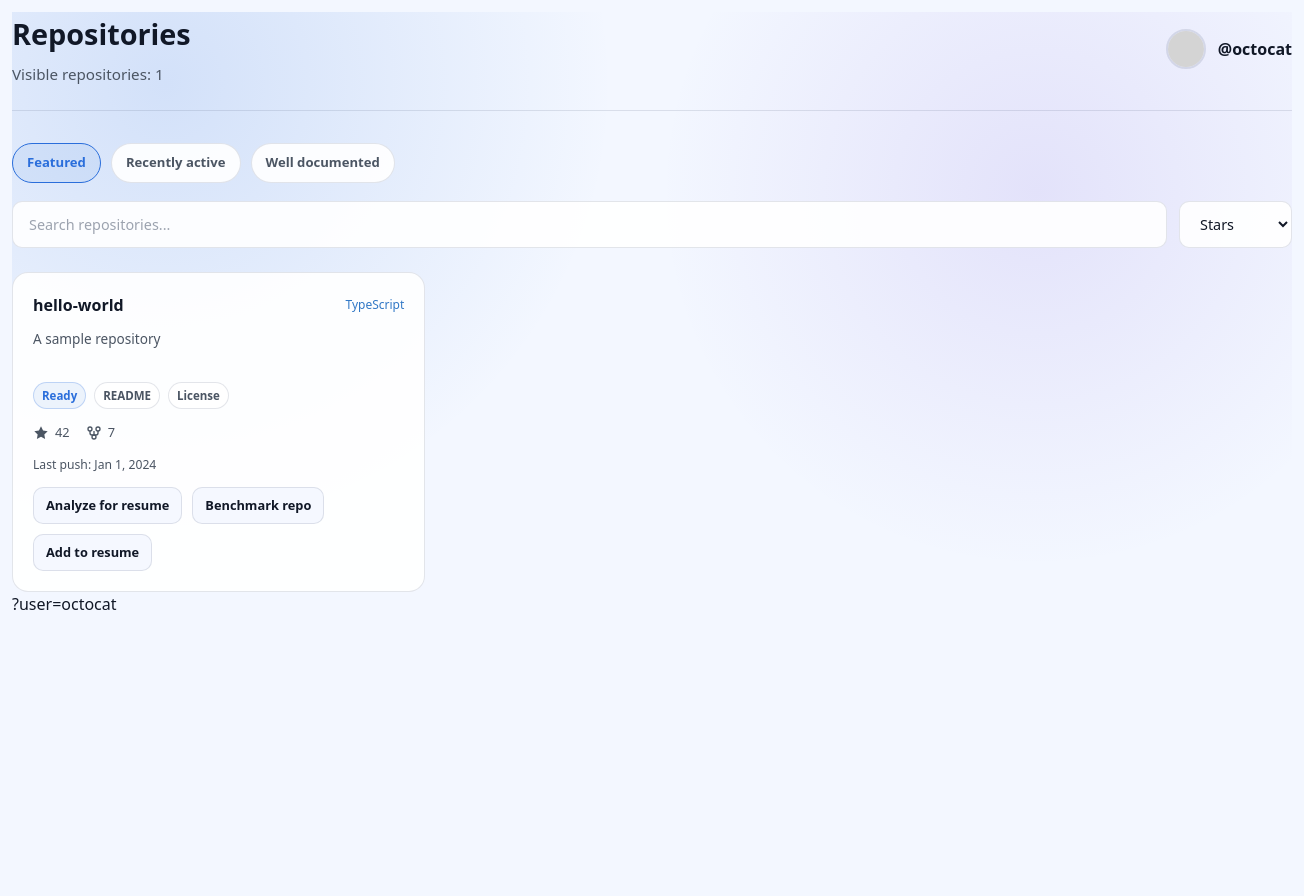
Test: Repositories URL persistence › removes the repository query param when the same analysis is collapsed
The image size is (1304, 896).
Click the button "Analyze for resume": x=108, y=505 [33, 487, 182, 524]
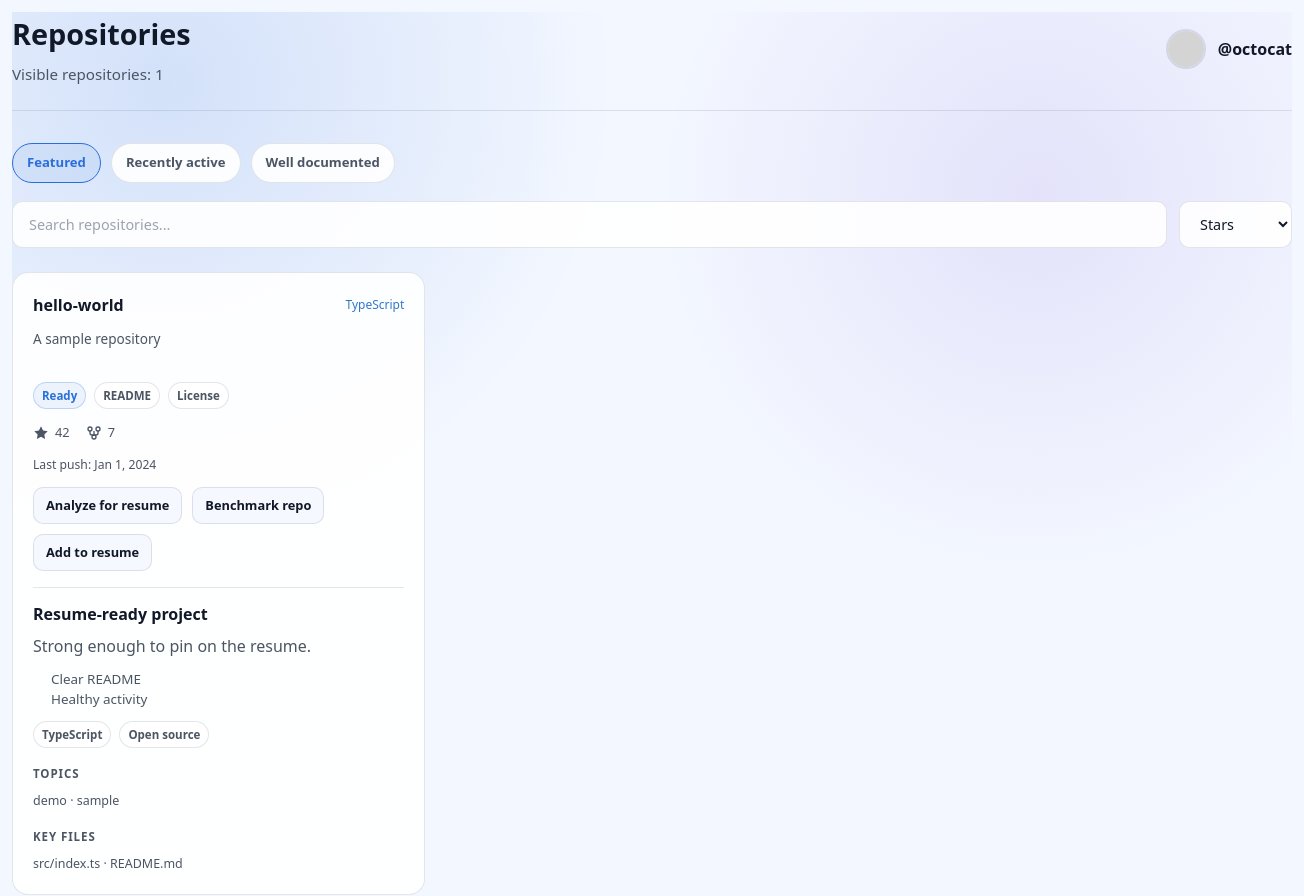
expect the text "Strong enough to pin on the resume." is shown: met, box [33, 635, 311, 657]
Click the button "Analyze for resume": x=108, y=505 [33, 487, 182, 524]
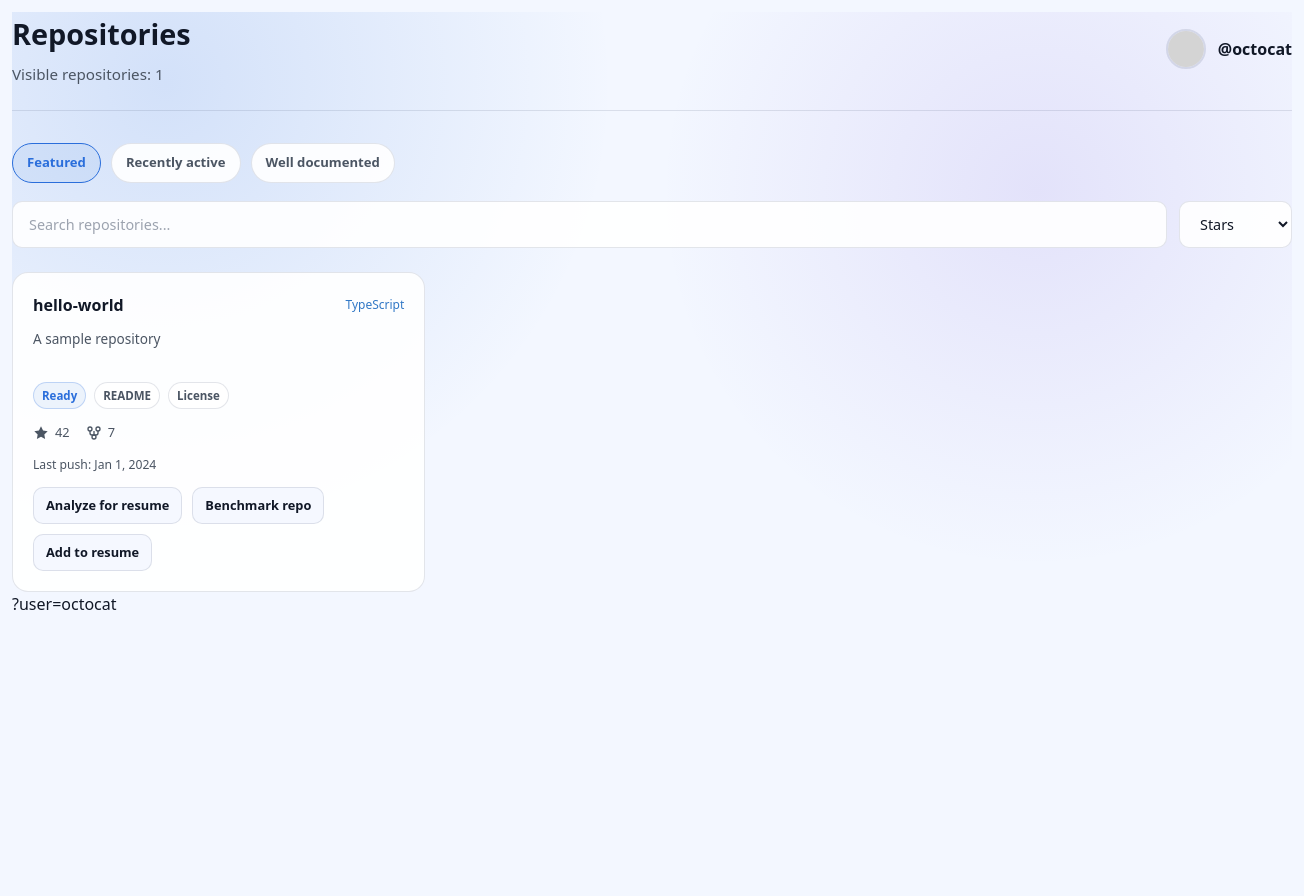
expect the text with test id "location-search" reads "?user=octocat": met, box [12, 593, 116, 615]
